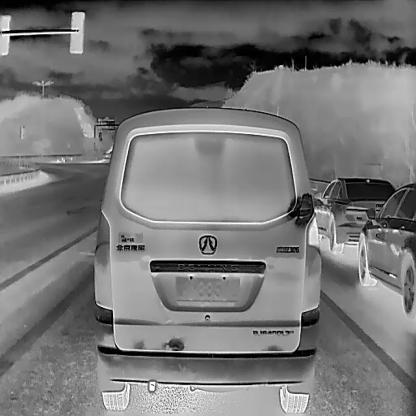car: (91, 105, 322, 412), (357, 182, 415, 321), (313, 175, 397, 255)
